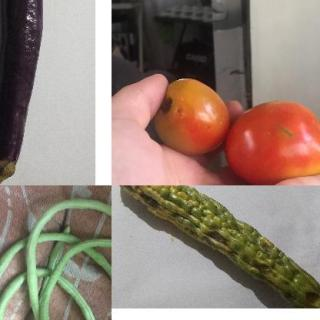Tomat: (142, 52, 320, 182)
